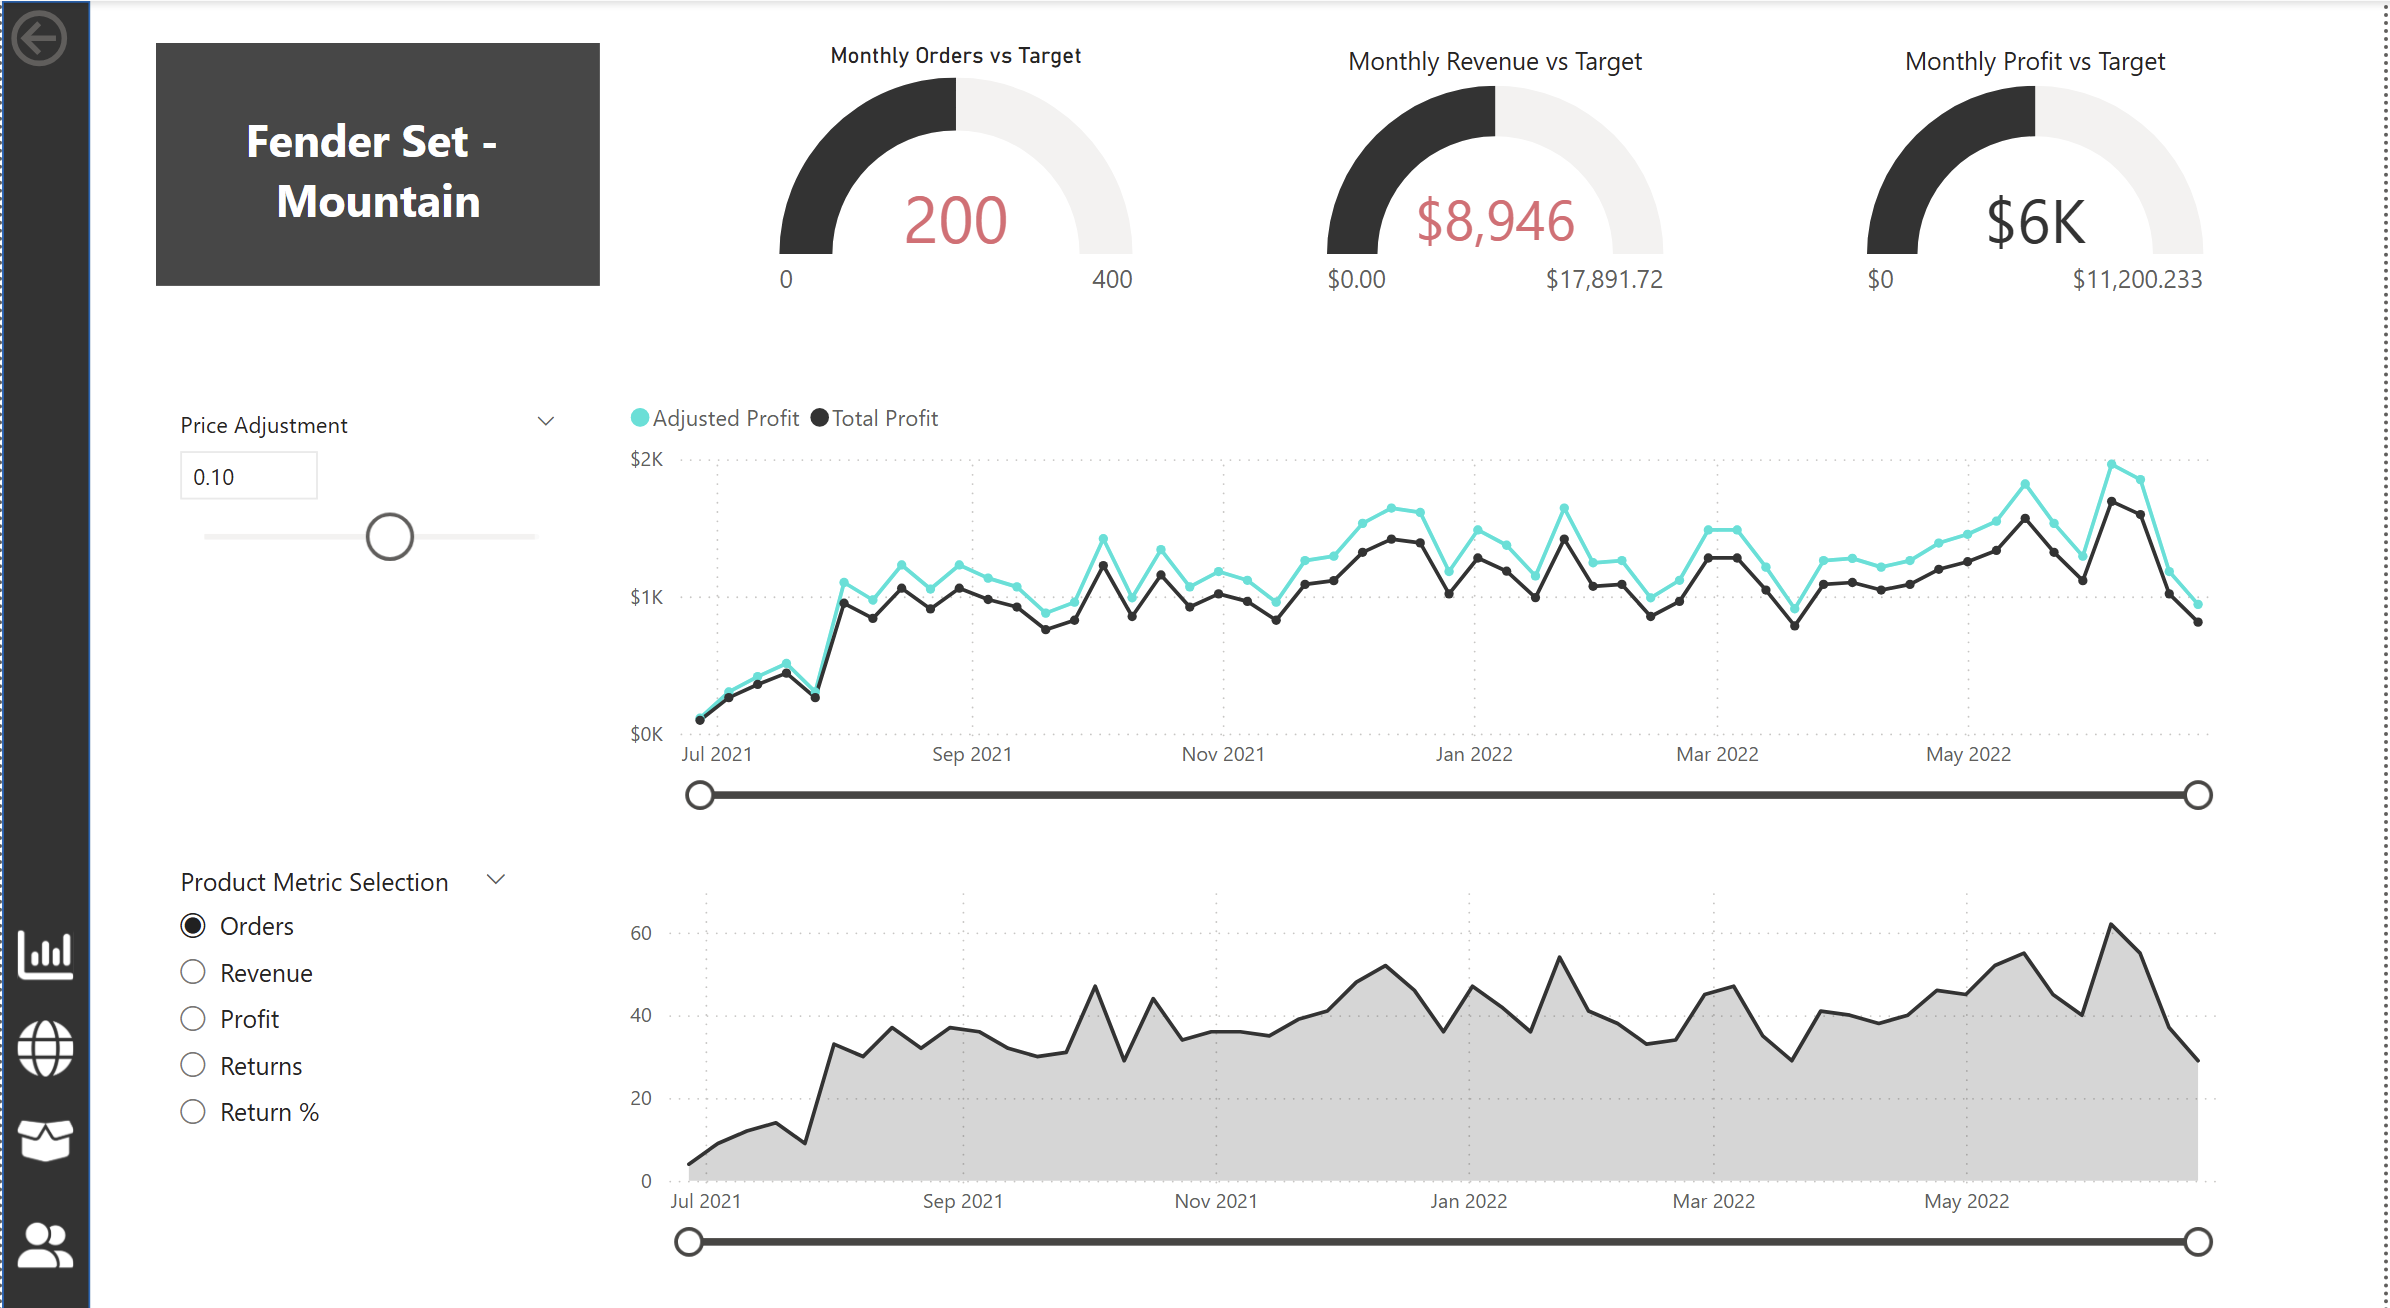

What the dashboard file says about the page in this screenshot:
{"tool":"powerbi","page":{"name":"Product Detail","canvas":[1280,720],"ordinal":3},"visuals":[{"type":"gauge","title":"Monthly Orders vs Target","fields":{"Y":["Mesure Table.Total Orders"]},"box":[396.9,22.4,232.1,146.4],"z":0},{"type":"gauge","title":"Monthly Revenue vs Target","fields":{"Y":["Mesure Table.Total Revenue"]},"box":[685.5,22.4,233.4,146.4],"z":1000},{"type":"actionButton","box":[4,490.5,38.2,44.8],"z":1000,"group":"g1"},{"type":"gauge","title":"Monthly Profit vs Target","fields":{"Y":["Mesure Table.Total Profit"]},"box":[975.4,22.4,233.4,146.4],"z":2000},{"type":"actionButton","box":[4,535.3,38.2,55.4],"z":2000,"group":"g1"},{"type":"lineChart","title":" Profit Trending","fields":{"Category":["Calendar Lookup.Date Hierarchy.Start of Year","Calendar Lookup.Date Hierarchy.Start of Month","Calendar Lookup.Date Hierarchy.Start of Week","Calendar Lookup.Date Hierarchy.Date"],"Y":["Mesure Table.Adjusted Profit","Mesure Table.Total Profit"]},"box":[332.3,204.4,876.9,233.4],"z":3000},{"type":"actionButton","box":[4,590.7,38.2,44.8],"z":3000,"group":"g1"},{"type":"areaChart","title":"Returns Trending","fields":{"Y":["Mesure Table.Total Orders"],"Category":["Calendar Lookup.Date Hierarchy.Start of Year","Calendar Lookup.Date Hierarchy.Start of Month","Calendar Lookup.Date Hierarchy.Start of Week","Calendar Lookup.Date Hierarchy.Date"]},"box":[332.3,464.2,876.9,213.6],"z":4000},{"type":"actionButton","box":[4,646.1,38.2,44.8],"z":4000,"group":"g1"},{"type":"shape","title":"Left Nav Background","box":[0,0,47.5,720],"z":5000},{"type":"group","id":"g1","title":"Navigation buttons","box":[4,490.5,38.2,200.4],"z":6000},{"type":"actionButton","box":[0,0,100,40],"z":7000},{"type":"card","fields":{"Values":["Min(Product Lookup.ProductName)"]},"box":[83.1,22.4,238.7,130.5],"z":8000},{"type":"slicer","fields":{"Values":["Price Adjustment.Price Adjustment"]},"box":[83.1,213.6,226.8,135.8],"z":9000},{"type":"slicer","fields":{"Values":["Product Metric Selection.Product Metric Selection"]},"box":[83.1,458.9,200.4,208.4],"z":10000}]}

Visuals, with their boxes on the page's 1280x720 design canvas (x1, y1, x2, y2). These are canvas units, not pixel positions in the 2390x1308 screenshot, which may show the page scaled, cropped or inside an application window:
"Monthly Orders vs Target" gauge: l=397, t=22, r=629, b=169
"Monthly Revenue vs Target" gauge: l=686, t=22, r=919, b=169
actionButton: l=4, t=490, r=42, b=535
"Monthly Profit vs Target" gauge: l=975, t=22, r=1209, b=169
actionButton: l=4, t=535, r=42, b=591
" Profit Trending" lineChart: l=332, t=204, r=1209, b=438
actionButton: l=4, t=591, r=42, b=636
"Returns Trending" areaChart: l=332, t=464, r=1209, b=678
actionButton: l=4, t=646, r=42, b=691
"Left Nav Background" shape: l=0, t=0, r=48, b=720
"Navigation buttons" group: l=4, t=490, r=42, b=691
actionButton: l=0, t=0, r=100, b=40
card - Min(Product Lookup.ProductName): l=83, t=22, r=322, b=153
slicer - Price Adjustment.Price Adjustment: l=83, t=214, r=310, b=349
slicer - Product Metric Selection.Product Metric Selection: l=83, t=459, r=284, b=667
